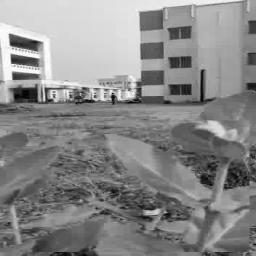Calotropis: (0, 120, 250, 252), (204, 98, 255, 128)
